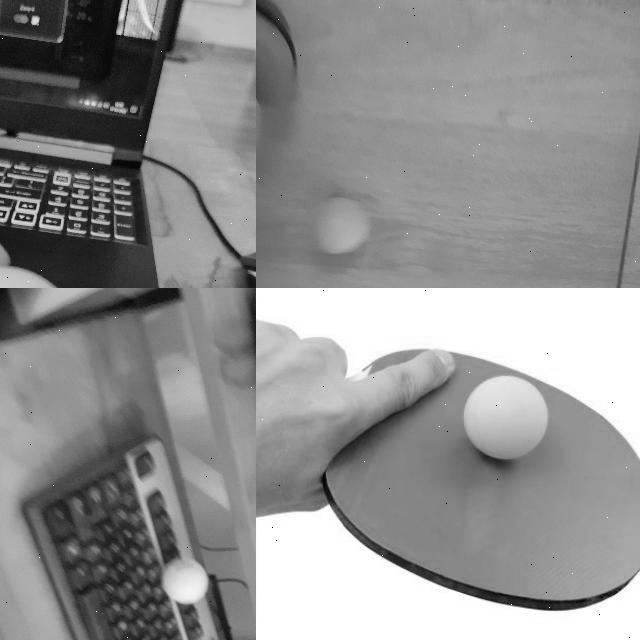ping-pong-ball: (464, 376, 548, 458), (307, 198, 367, 255), (162, 558, 206, 606)
